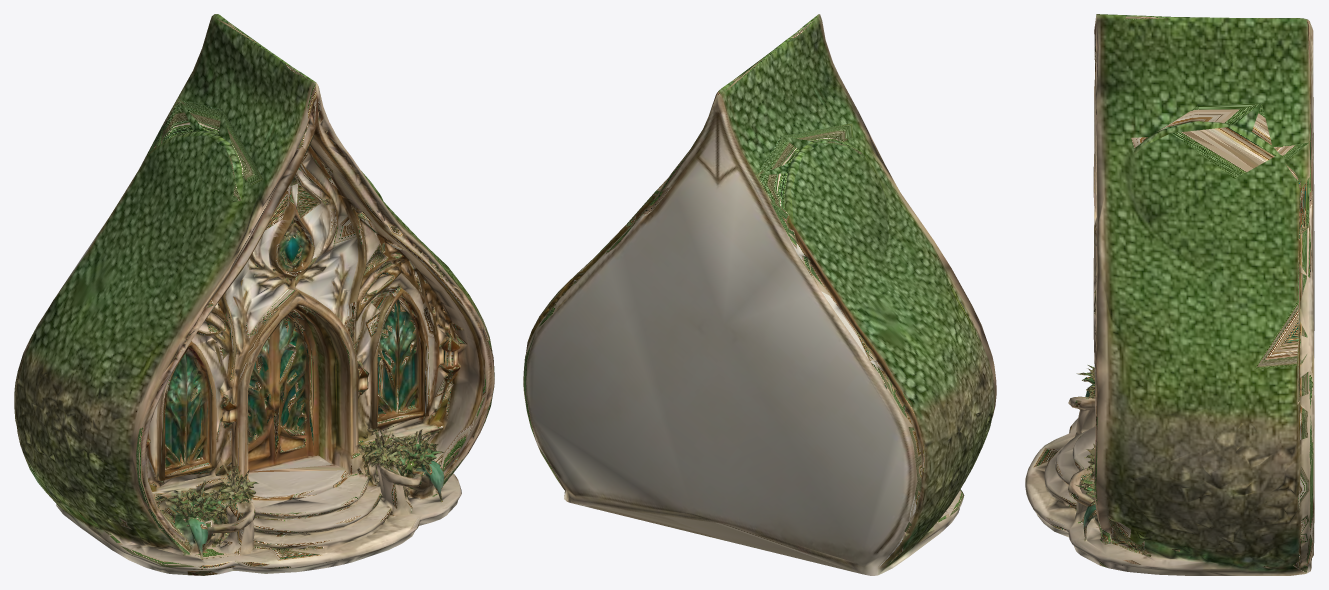
The model's file is Leafspire_Cathedral.glb.
The picture shows the model from 3 angles, left to right: view 1: azimuth 30°, elevation 25°; view 2: azimuth 150°, elevation 25°; view 3: azimuth 270°, elevation 25°; orthographic projection. The views are drawn at different scales.
Parts seen in each view (by area): view 1: Leafspire_Cathedral; view 2: Leafspire_Cathedral; view 3: Leafspire_Cathedral.
Part boxes in pixels (x1,y1,x2,y2): Leafspire_Cathedral: (14,14,494,575); Leafspire_Cathedral: (523,14,996,575); Leafspire_Cathedral: (1025,14,1314,575).
Size of the model in its own units: 1.8 by 1.9 by 1.04.
1 material, 1 textured.
